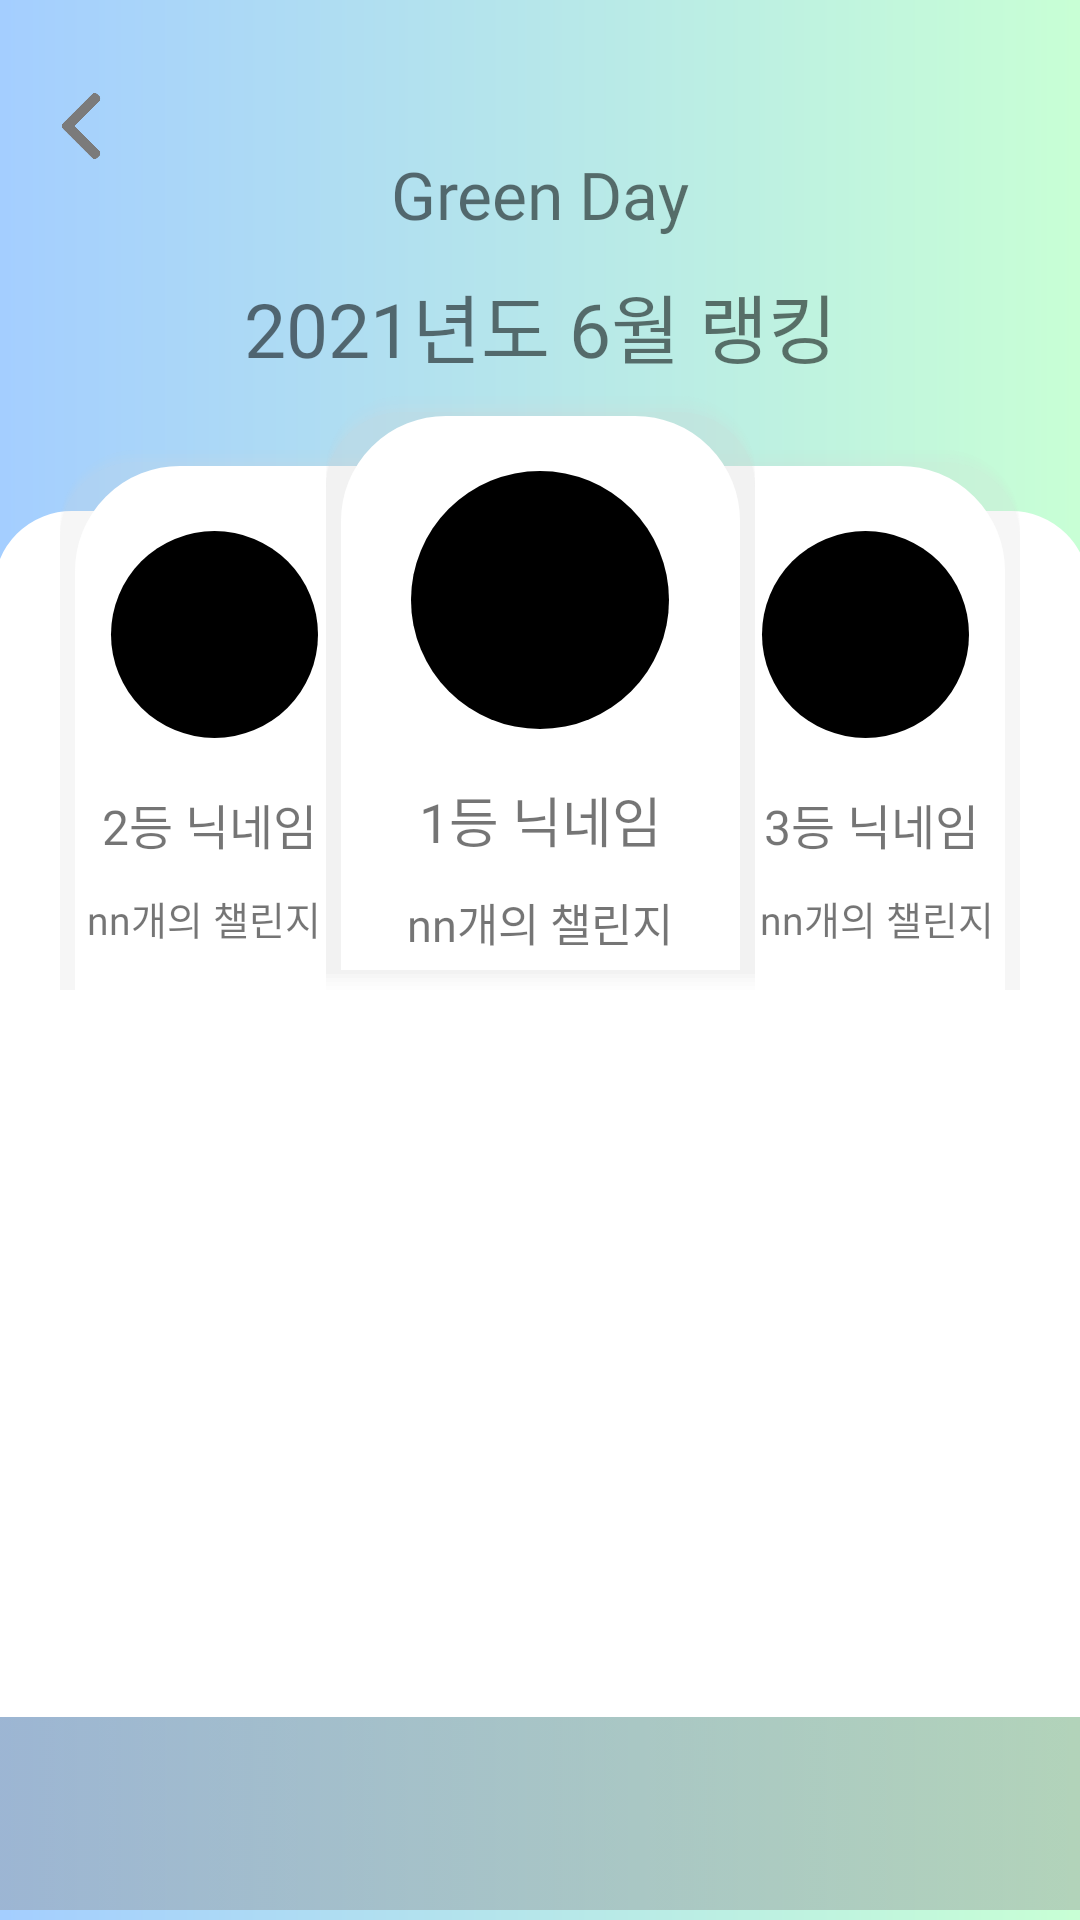

Named icons in this screenshot (1080px×1920px) and their centers, (x=x, y=y):
arrow: (x=81, y=126)
